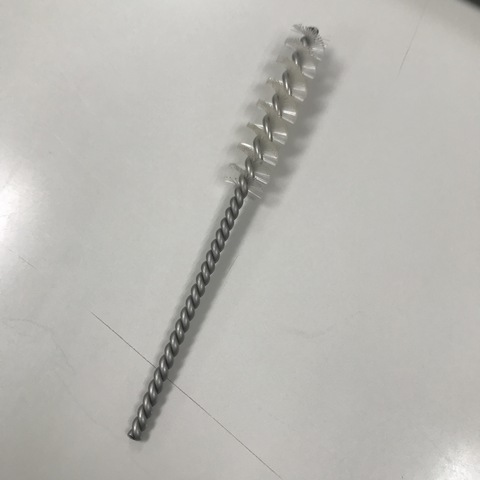Twist Brush-B: (122, 24, 333, 443)
